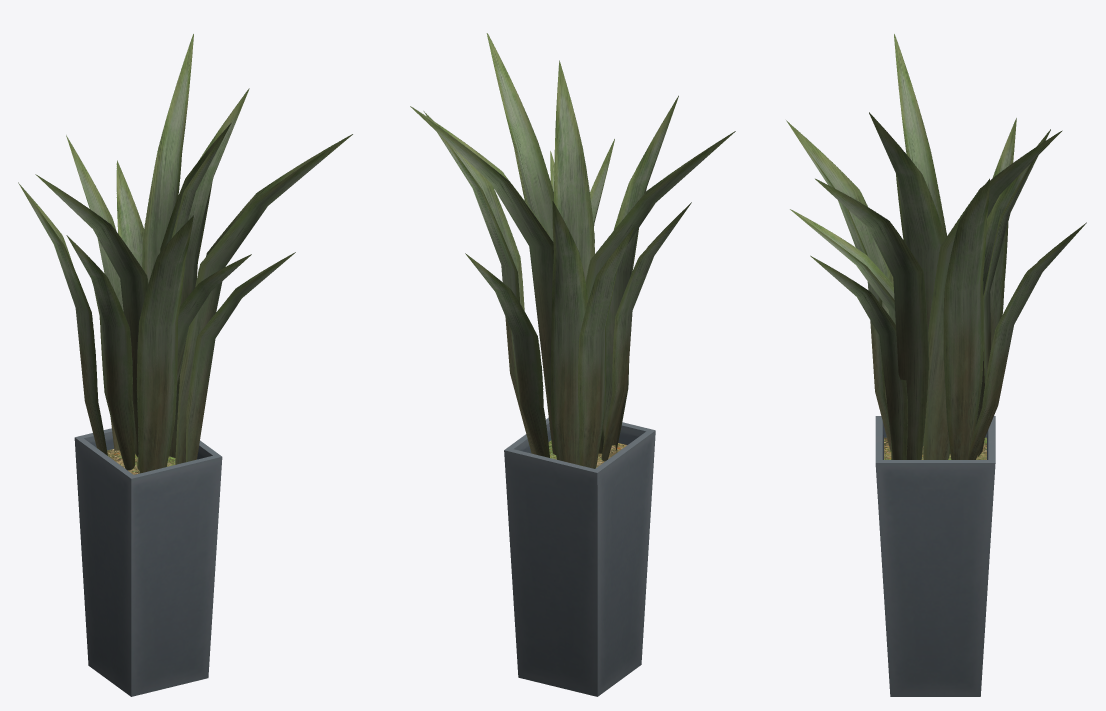
The model's file is MB_Pot_Flower_01.fbx.
3 renders of one model, left to right at view 1: azimuth 30°, elevation 25°; view 2: azimuth 150°, elevation 25°; view 3: azimuth 270°, elevation 25°, orthographic. The views are drawn at different scales.
Visible parts, largest first — view 1: MB_Pot_Flower_01_LOD0; view 2: MB_Pot_Flower_01_LOD0; view 3: MB_Pot_Flower_01_LOD0.
Boxes of the visible parts, left/top/right/bottom form: MB_Pot_Flower_01_LOD0: left=18, top=34, right=352, bottom=696; MB_Pot_Flower_01_LOD0: left=410, top=33, right=735, bottom=696; MB_Pot_Flower_01_LOD0: left=786, top=34, right=1086, bottom=696.
Size of what is drawn, in the model's own units: 83.23 by 154 by 70.76.
